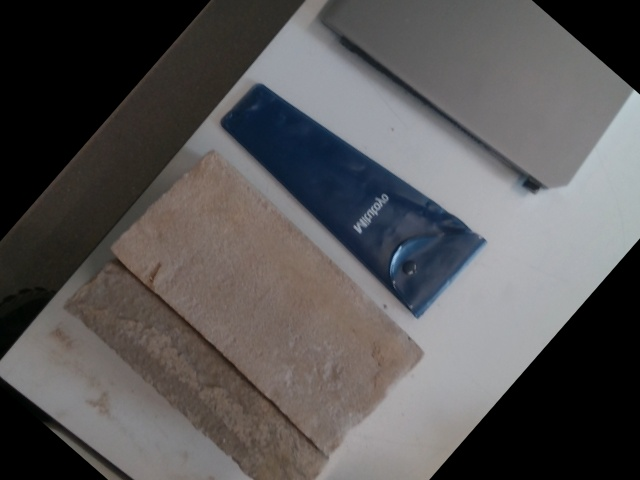brick: (121, 152, 419, 447)
